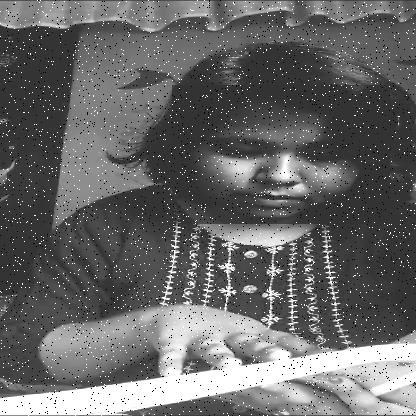Normal: (172, 85, 390, 224)
